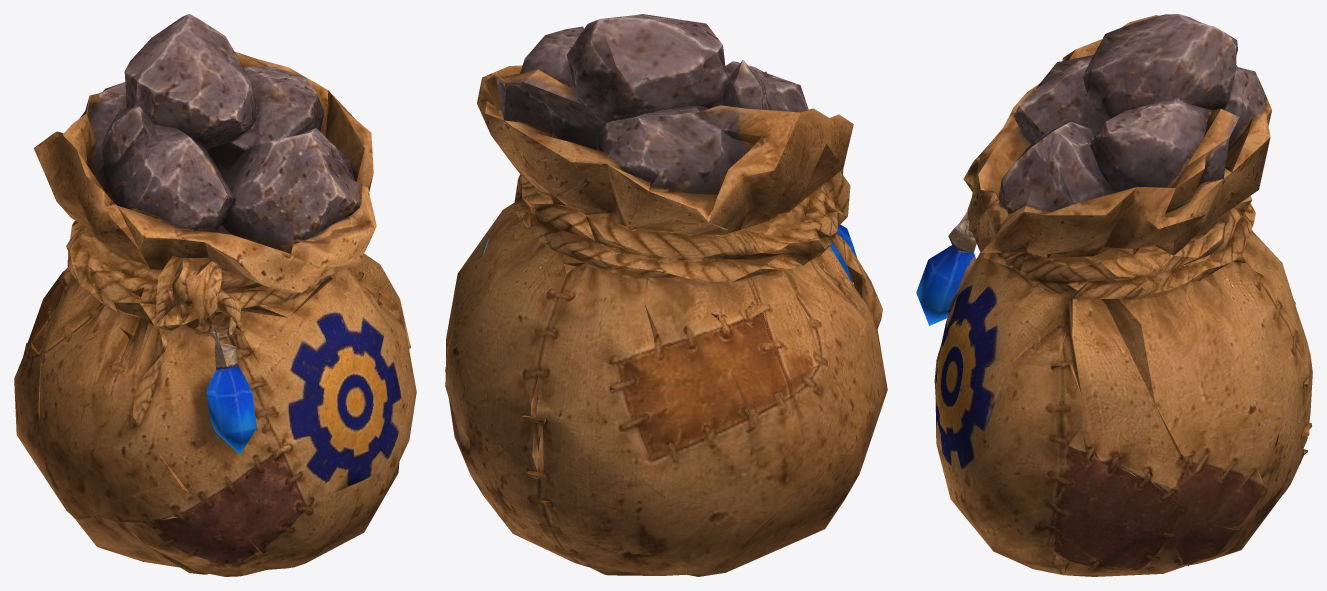
Rendered from sack.glb.
The picture shows the model from 3 angles, left to right: view 1: azimuth 30°, elevation 25°; view 2: azimuth 150°, elevation 25°; view 3: azimuth 270°, elevation 25°; orthographic projection. The views are drawn at different scales.
Visible parts, largest first — view 1: Mesh_0; view 2: Mesh_0; view 3: Mesh_0.
Boxes of the visible parts, left/top/right/bottom form: Mesh_0: left=14, top=14, right=416, bottom=576; Mesh_0: left=445, top=14, right=887, bottom=576; Mesh_0: left=916, top=14, right=1312, bottom=576.
Bounding box in the file's own units: 1.46 × 1.9 × 1.33.
Materials: 1 (1 with a texture image).
